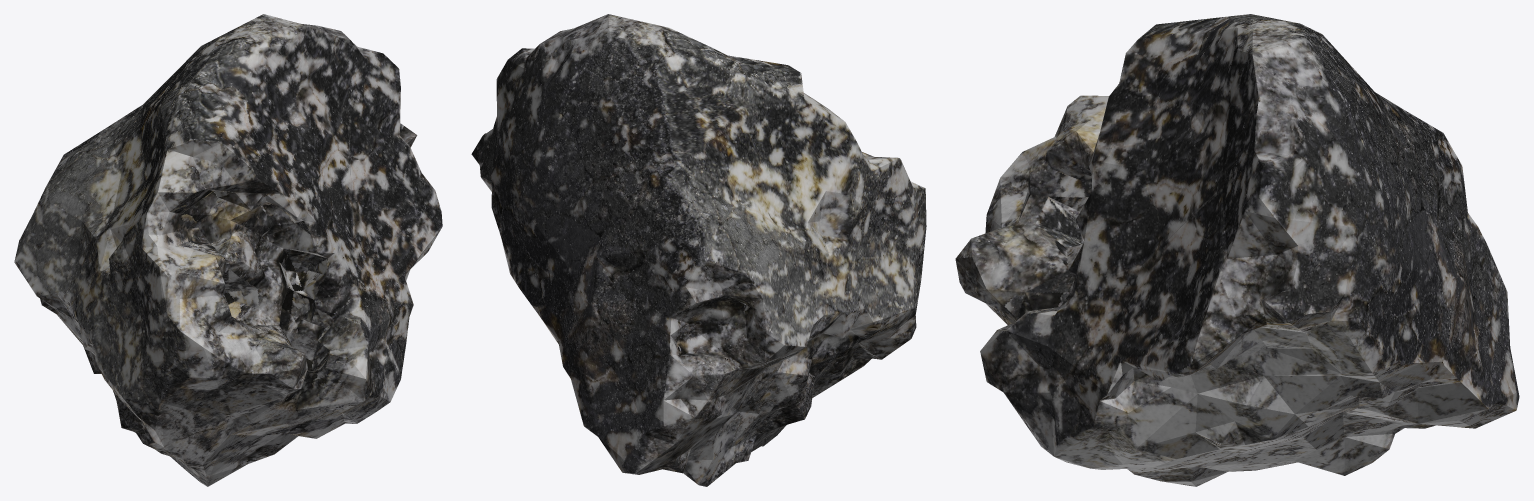
File: GRO17099-0_sub.fbx
The picture shows the model from 3 angles, left to right: view 1: azimuth 30°, elevation 25°; view 2: azimuth 150°, elevation 25°; view 3: azimuth 270°, elevation 25°; orthographic projection. The views are drawn at different scales.
Parts seen in each view (by area): view 1: GRO17099-0_sub; view 2: GRO17099-0_sub; view 3: GRO17099-0_sub.
Boxes of the visible parts, bbox=[...] form: GRO17099-0_sub: bbox=[14, 14, 442, 486]; GRO17099-0_sub: bbox=[471, 14, 926, 486]; GRO17099-0_sub: bbox=[955, 14, 1519, 486].
Bounding box in the file's own units: 36.26 × 39.45 × 39.27.
